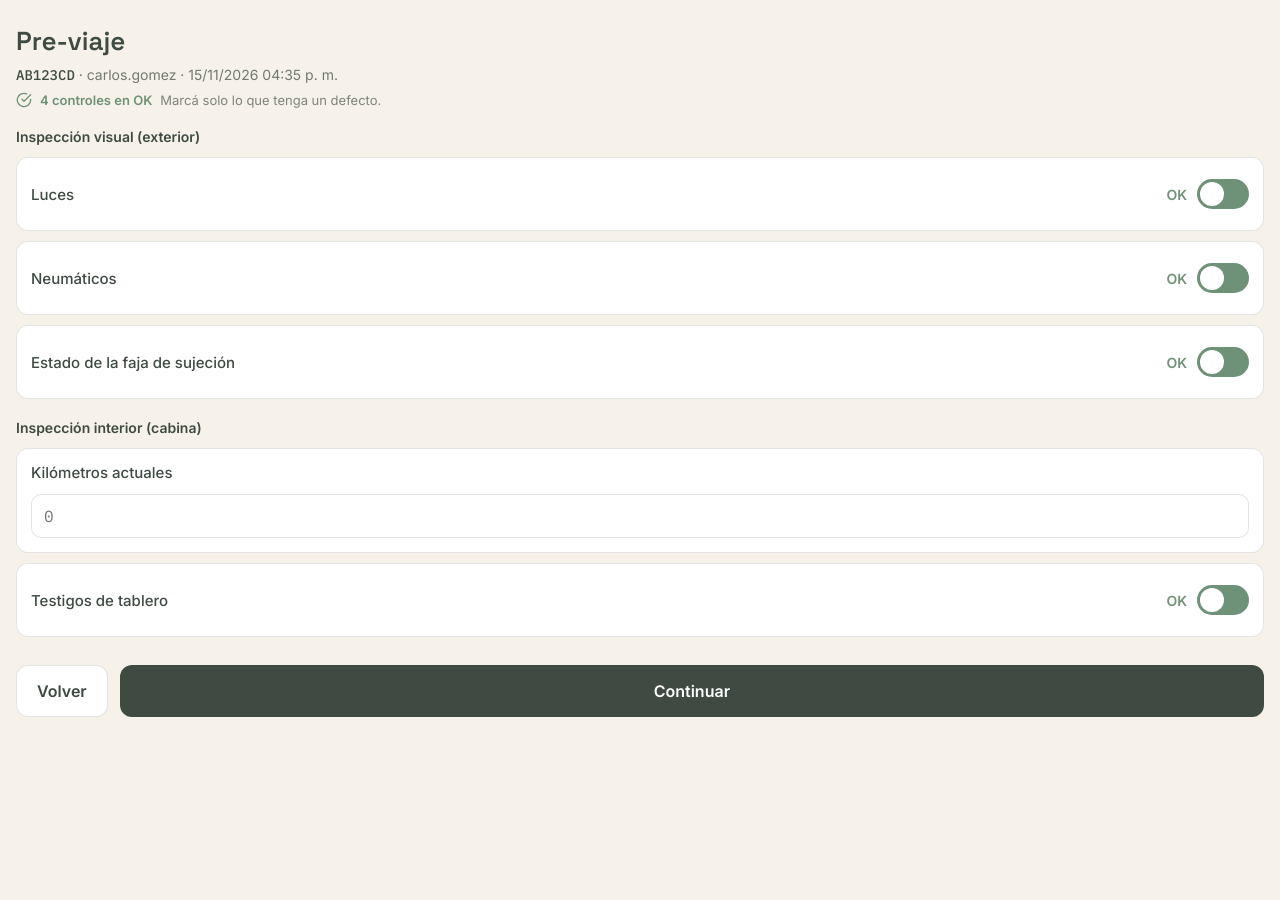
Test case: InspectionFlow — pre-viaje › un defecto que se volvió a OK no cuenta en el resumen
This screenshot has width=1280, height=900.
Expected: the heading "Pre-viaje" is shown, [16,24,126,58]
Click the switch named "Luces: reportar defecto" at (1208, 194), box [1166,172,1249,216]
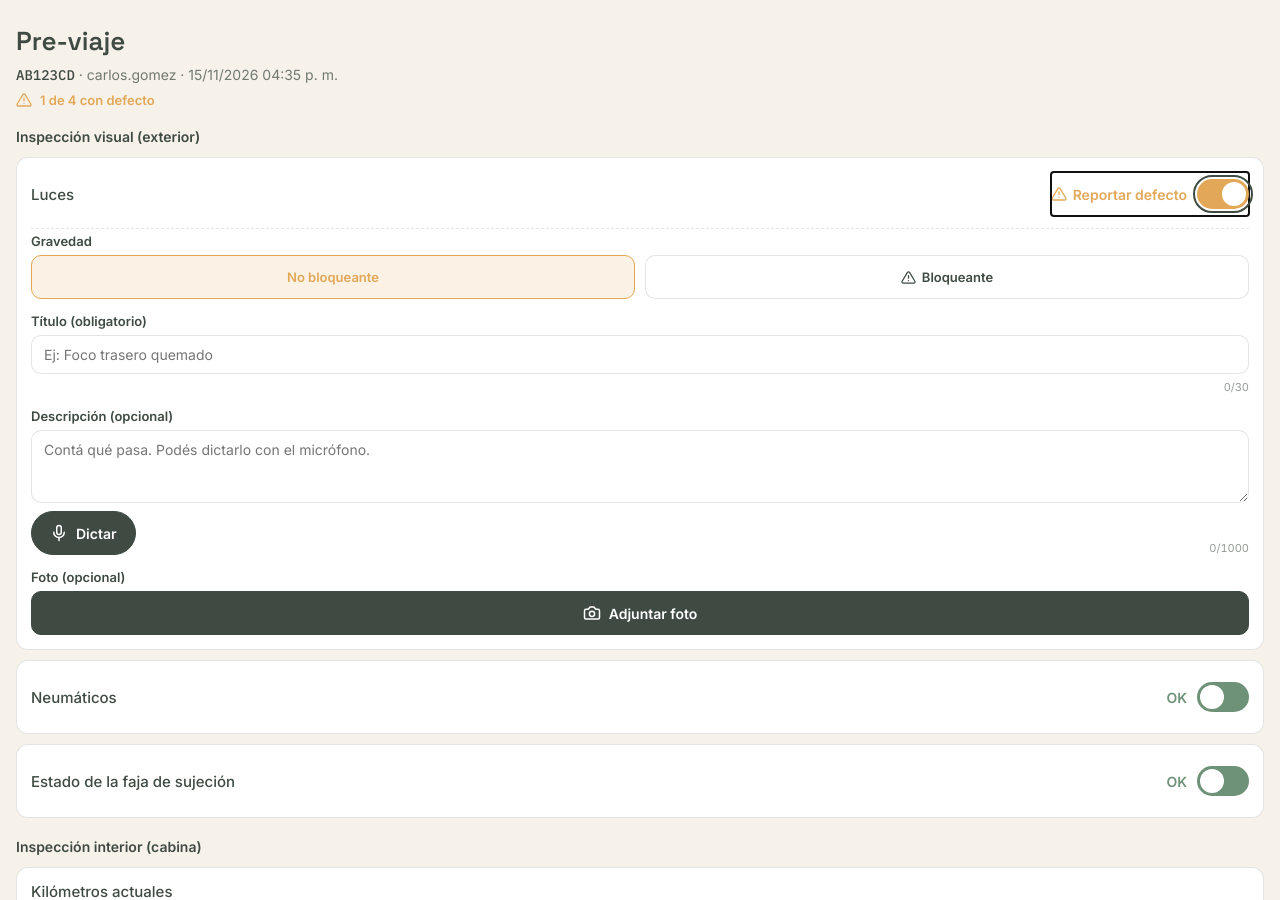
Type "Faro roto" into the field labelled "Título (obligatorio)" at (640, 354), box [31,335,1249,374]
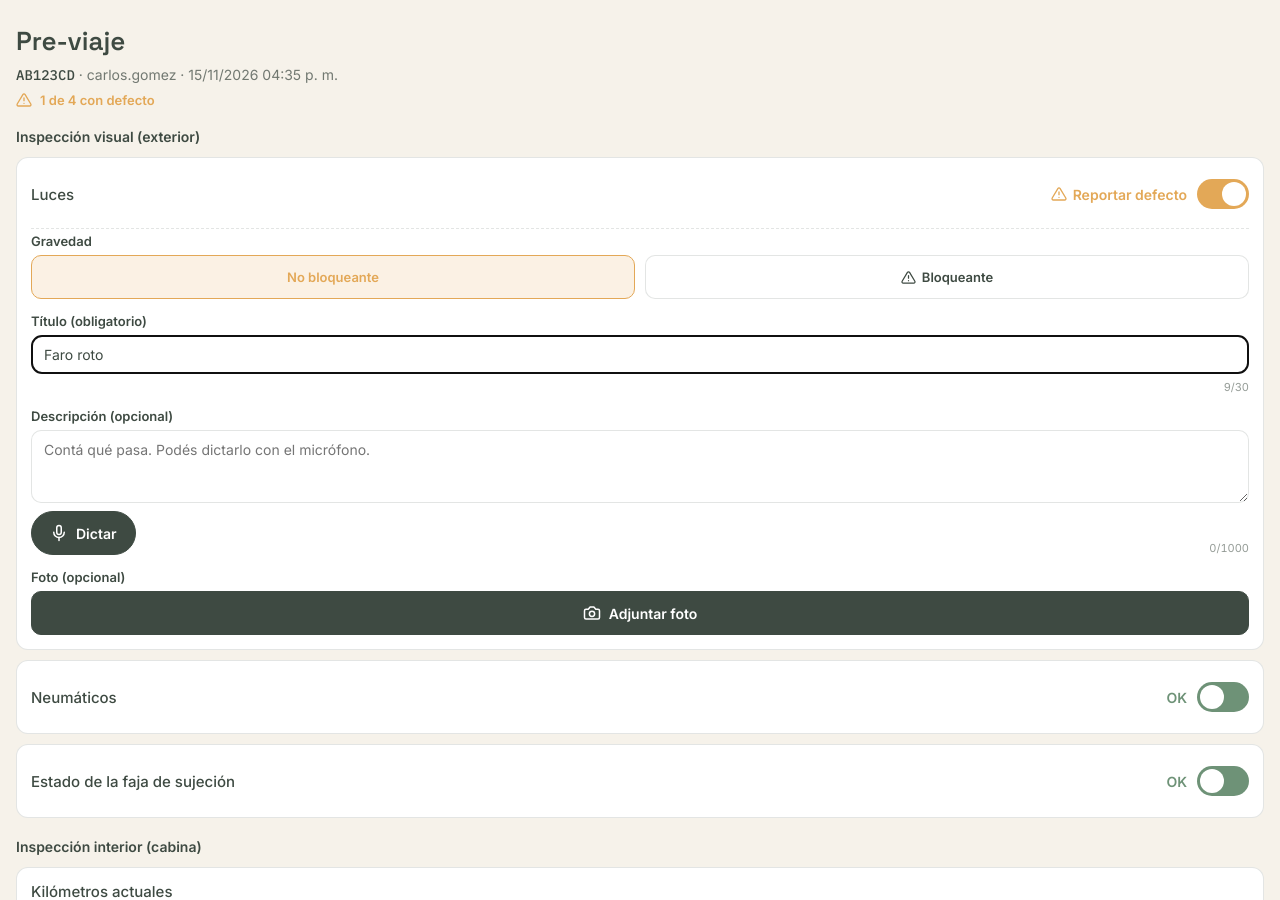
Click the switch named "Luces: reportar defecto" at (1150, 194), box [1051,172,1249,216]
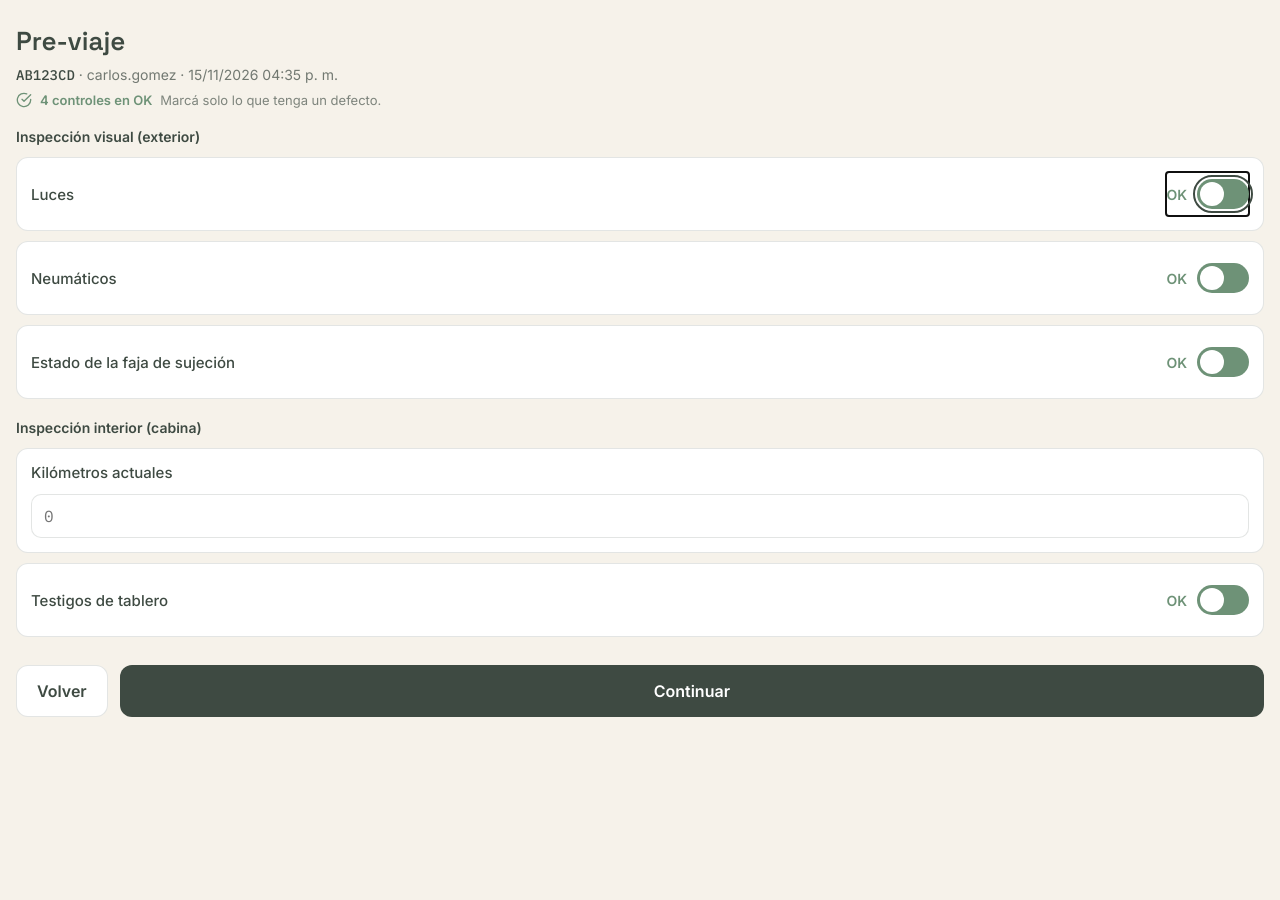
Expected: the text "4 controles en OK" is shown, [40,92,152,108]
Type "84320" into the number field labelled "Kilómetros actuales" at (640, 516), box [31,494,1249,538]
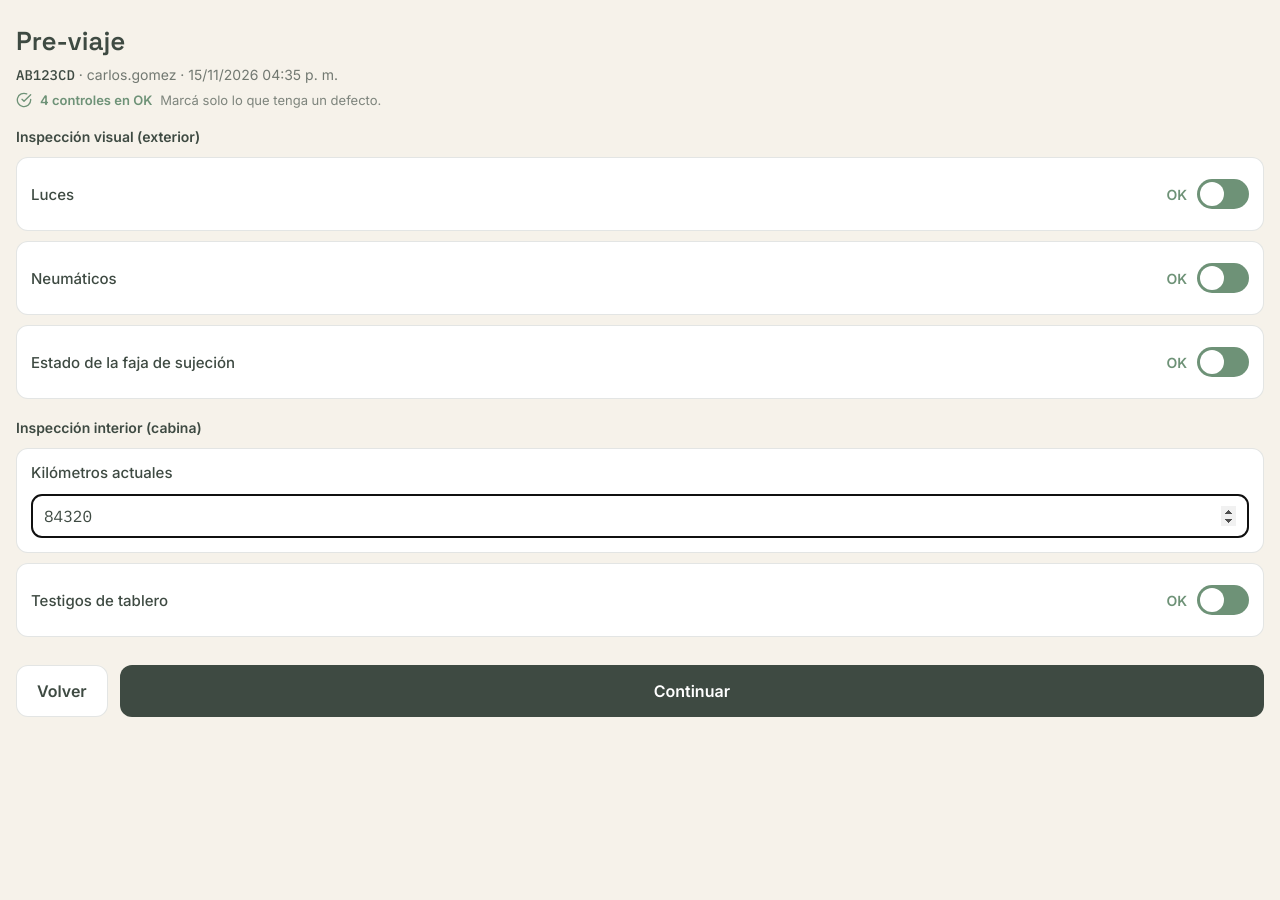
Click the button "Continuar" at (692, 691), box [120,665,1264,717]
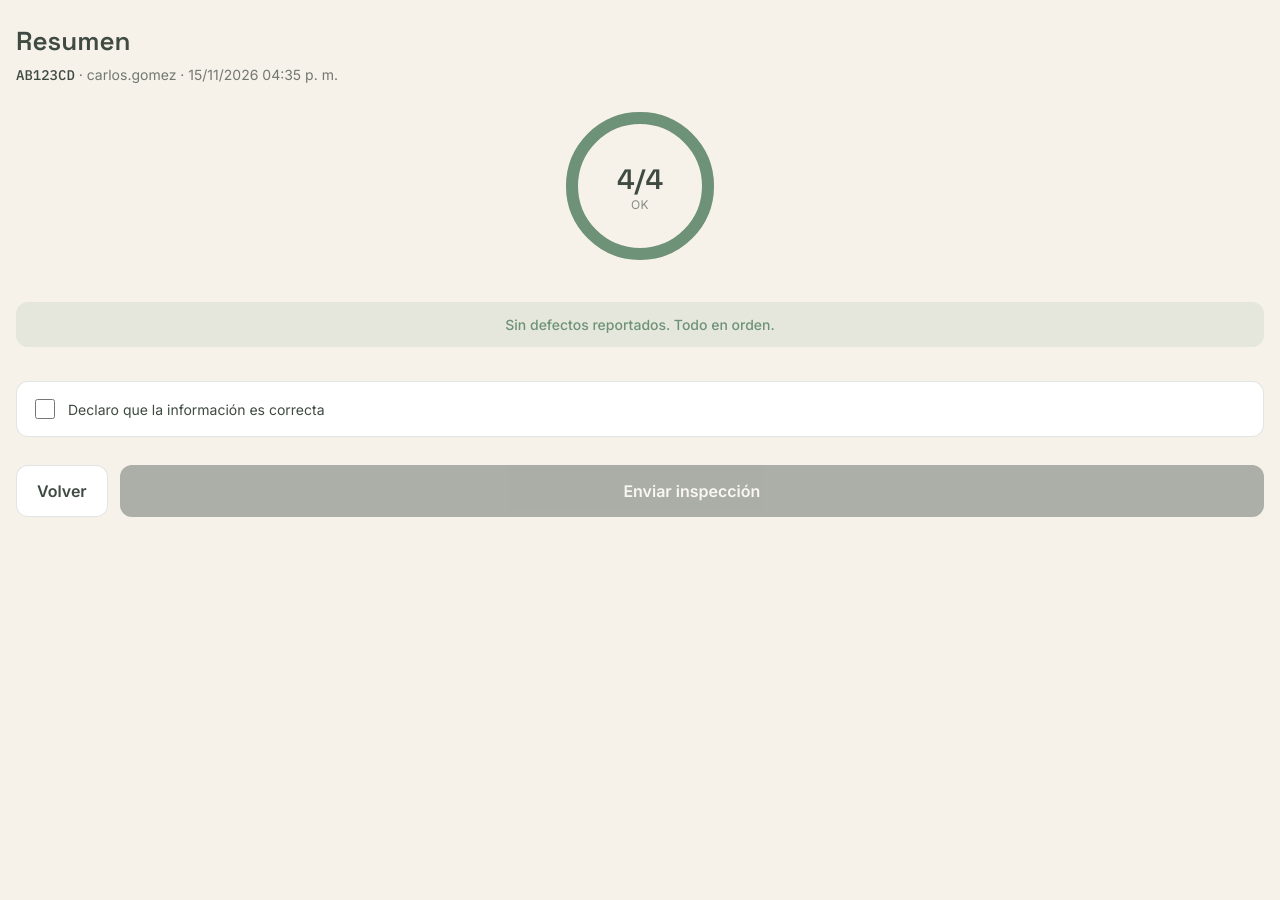
Expected: the heading "Resumen" is shown, [16,24,130,58]
Expected: the text "Sin defectos reportados. Todo en orden." is shown, [16,302,1264,347]
